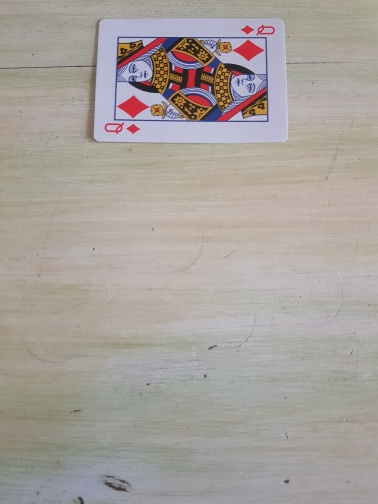queen: (93, 17, 289, 143)
